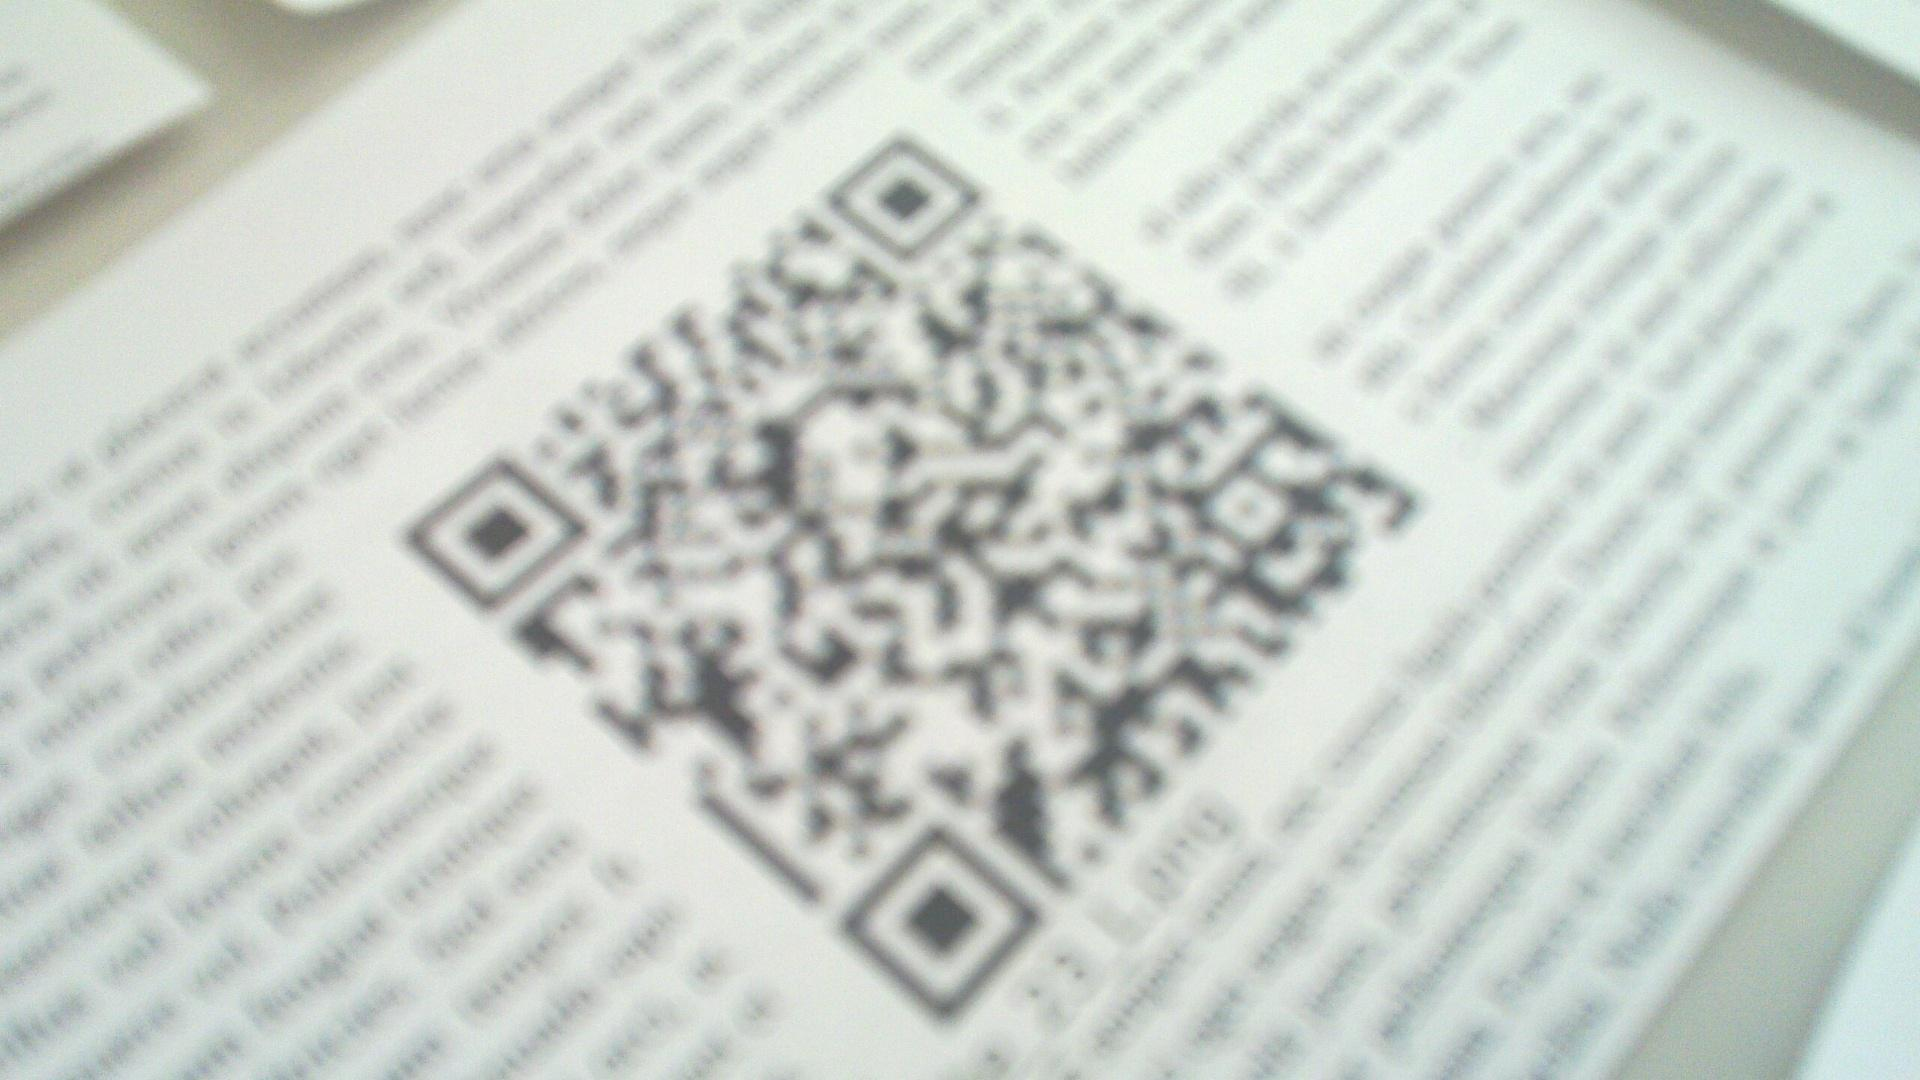Finder pattern: (840, 822, 1036, 1009), (407, 467, 584, 607), (819, 133, 982, 260)
